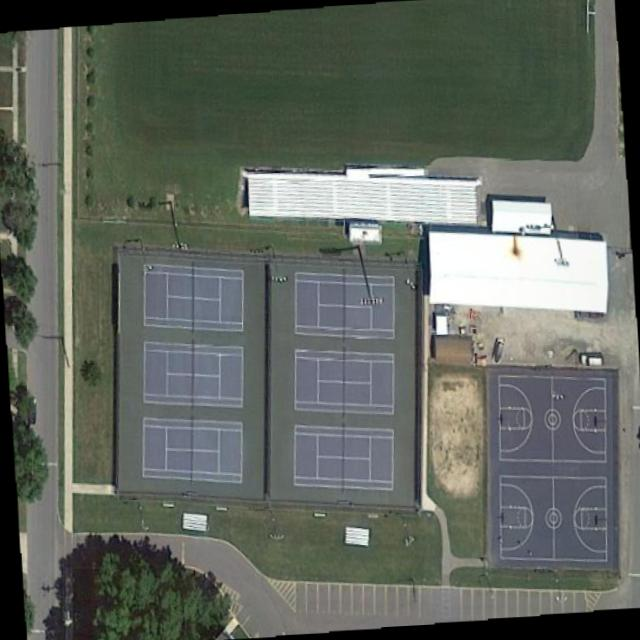small-vehicle: (578, 352, 604, 370), (491, 335, 505, 366), (26, 401, 38, 428)
